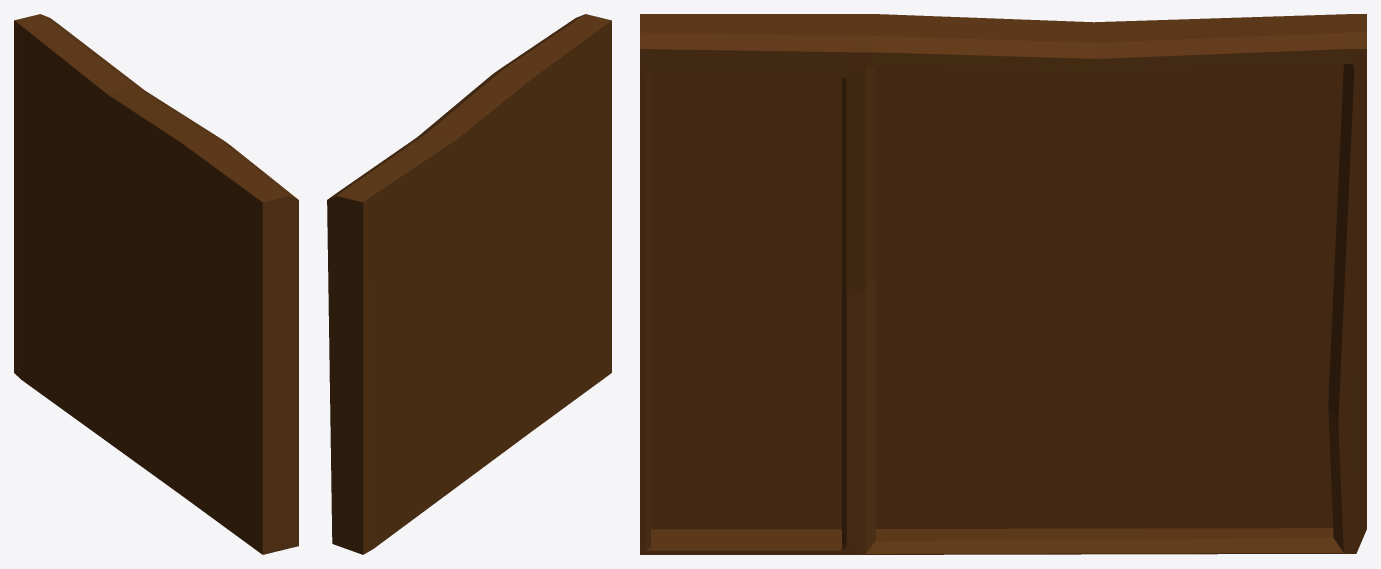
The model's file is ShoeShop.fbx.
3 renders of one model, left to right at view 1: azimuth 30°, elevation 25°; view 2: azimuth 150°, elevation 25°; view 3: azimuth 270°, elevation 25°, orthographic. The views are drawn at different scales.
Visible parts, largest first — view 1: Cube.023; view 2: Cube.023; view 3: Cube.023.
Boxes of the visible parts, x1,y1,x2,y2 form: Cube.023: [14, 14, 298, 554]; Cube.023: [327, 14, 611, 554]; Cube.023: [640, 14, 1366, 554].
Bounding box in the file's own units: 37.49 × 381 × 298.
